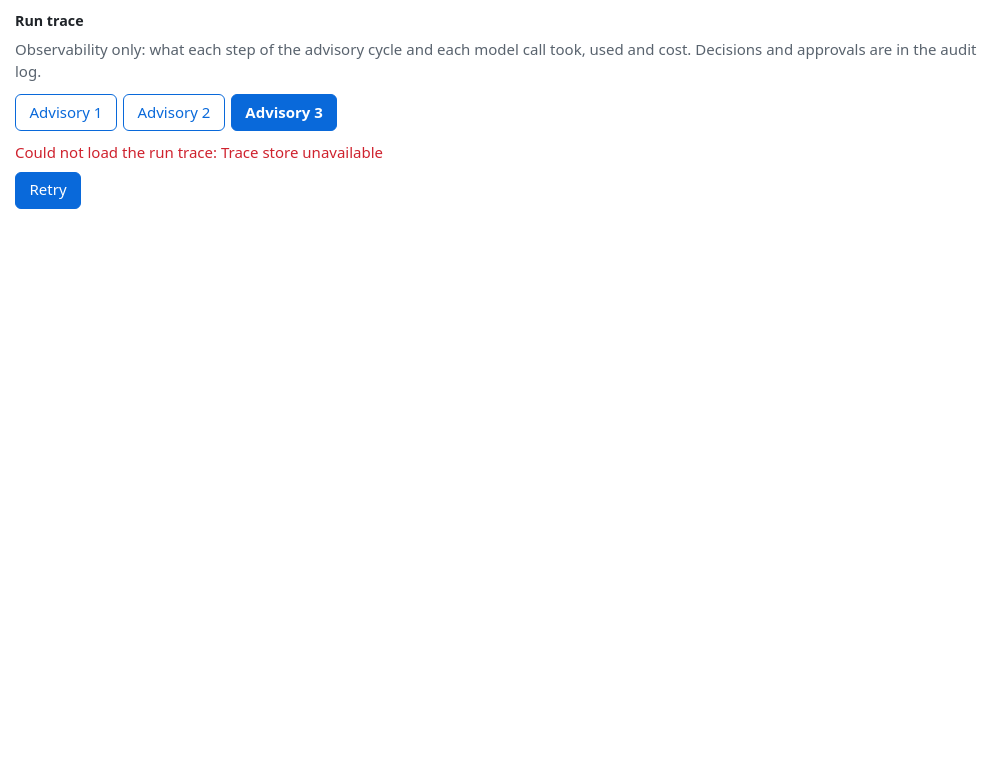
Test case: a failed load says so and retries
Expected: the text "Could not load the run trace: Trace store unavailable" is shown, [15,142,383,162]
Click the button "Retry" at (48, 190), box [15,172,81,209]
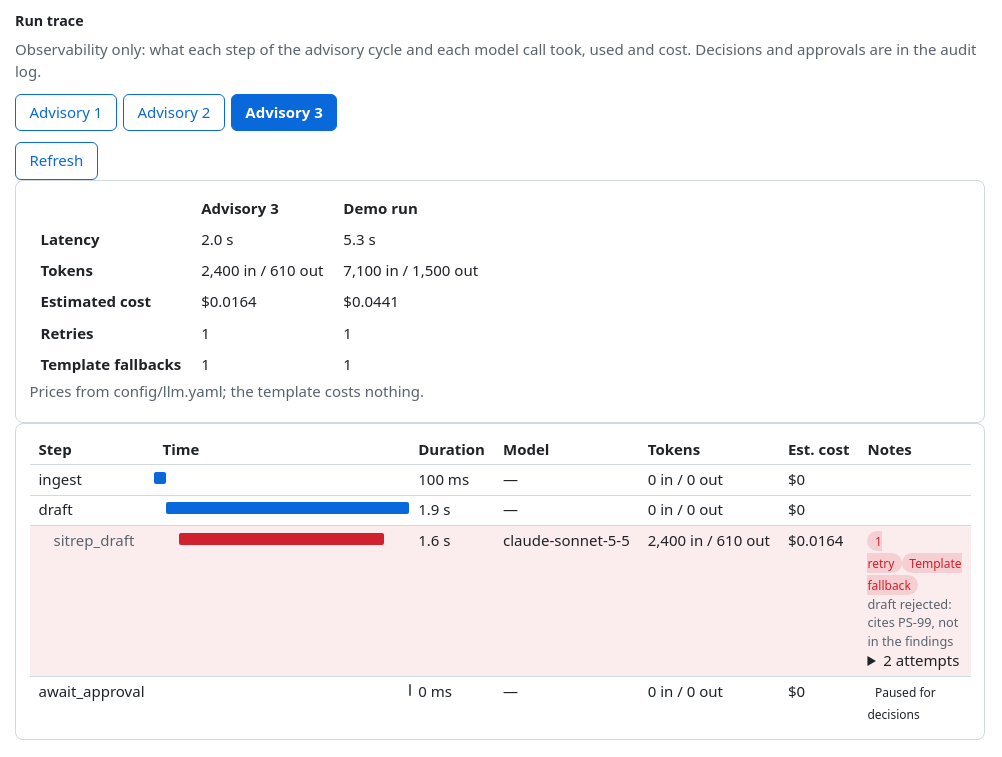
Expected: the text "sitrep_draft" is shown, [30,525,154,676]
